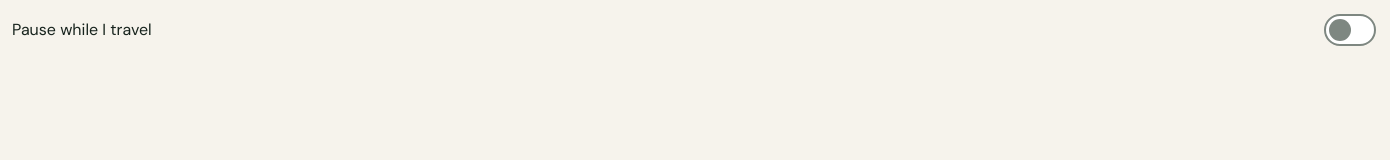
Scenario: components › Switch toggles aria-checked
Click the switch named "Pause while I travel" at (1350, 30), box 1322,8 -> 1378,52
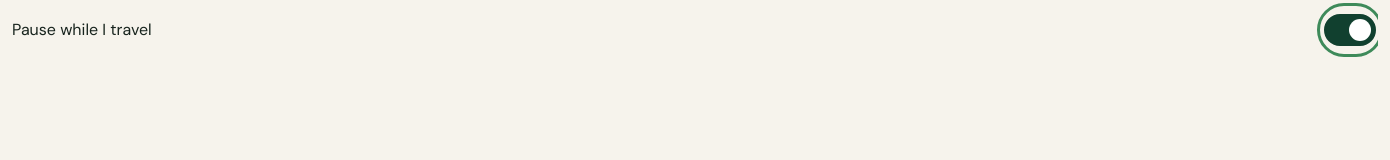
Check: the switch named "Pause while I travel" is checked, box 1322,8 -> 1378,52
